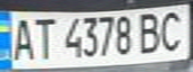3: (78, 14, 100, 58)
4: (60, 15, 81, 60)
7: (97, 12, 118, 57)
8: (115, 12, 139, 56)
A: (6, 15, 36, 62)
B: (136, 9, 166, 54)
C: (154, 7, 190, 53)
T: (30, 15, 57, 61)
